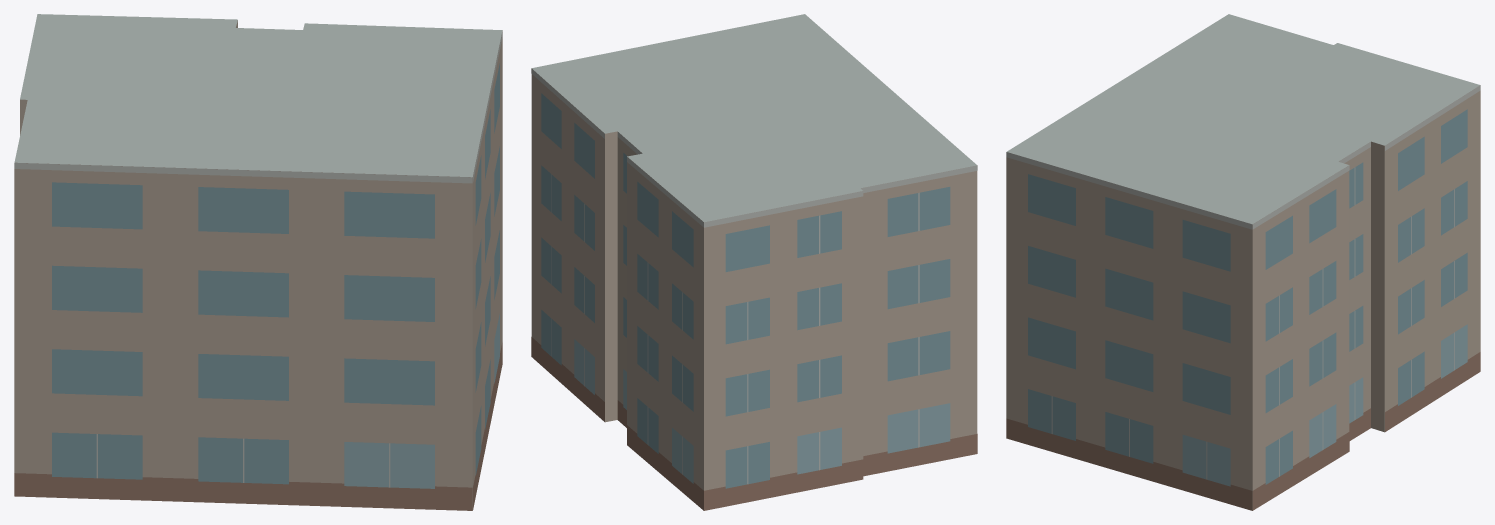
Rendered from survey-upis-32701419.glb.
3 renders of one model, left to right at view 1: azimuth 30°, elevation 25°; view 2: azimuth 150°, elevation 25°; view 3: azimuth 270°, elevation 25°, orthographic. The views are drawn at different scales.
Parts seen in each view (by area): view 1: survey-upis-32701419.tmp; view 2: survey-upis-32701419.tmp; view 3: survey-upis-32701419.tmp.
Boxes of the visible parts, x1,y1,x2,y2 form: survey-upis-32701419.tmp: (14,14,502,510); survey-upis-32701419.tmp: (531,14,977,510); survey-upis-32701419.tmp: (1006,14,1480,510).
Size of the model in its own units: 20.39 by 12.95 by 19.43.
